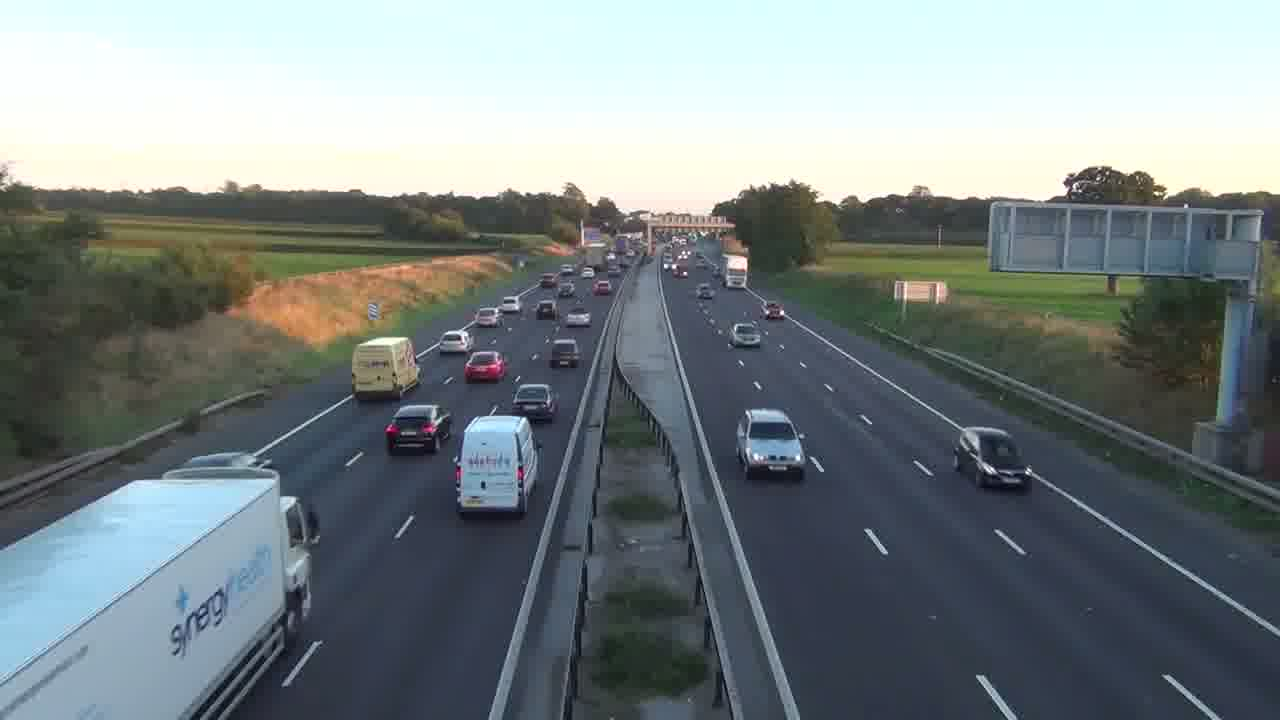bus: (453, 414, 540, 518), (352, 336, 419, 402)
car: (735, 407, 807, 480), (953, 425, 1032, 489), (384, 403, 453, 454), (511, 383, 560, 423), (463, 351, 507, 383), (549, 337, 581, 368), (730, 321, 763, 349), (440, 328, 471, 354), (564, 310, 592, 327)
truck: (1, 450, 317, 715), (453, 414, 540, 518), (953, 425, 1032, 489), (352, 336, 419, 402)
